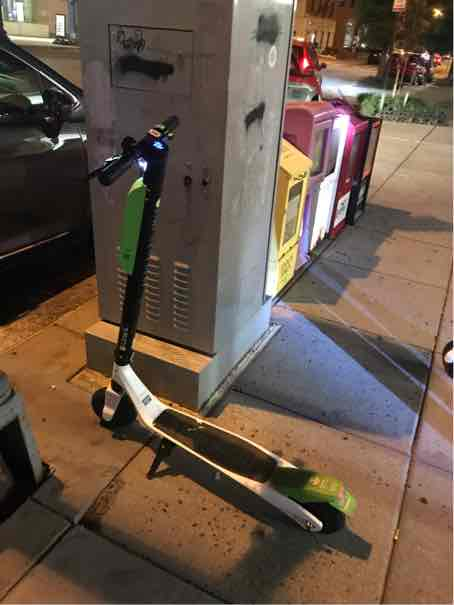scooter: (81, 112, 356, 540)
